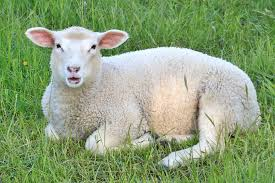koyun: (25, 26, 261, 170)
